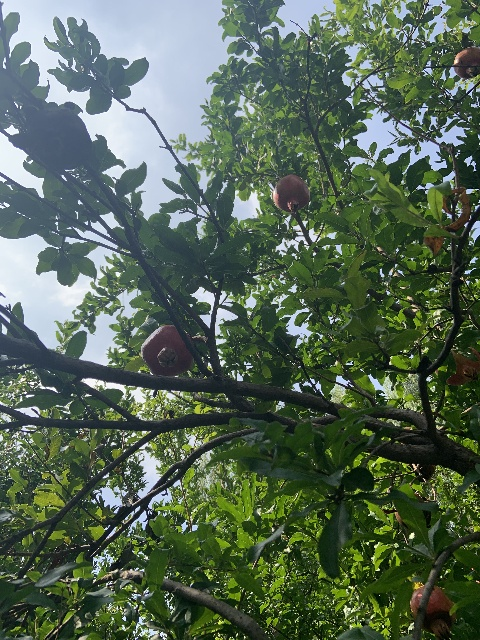ripe: (140, 324, 193, 376), (409, 584, 455, 639), (272, 174, 310, 213), (447, 345, 480, 385), (453, 47, 480, 78)
